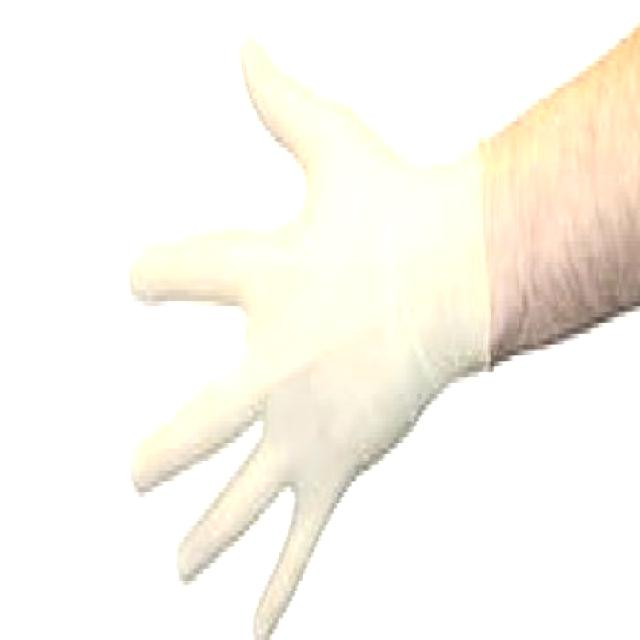glove: (118, 33, 494, 635)
